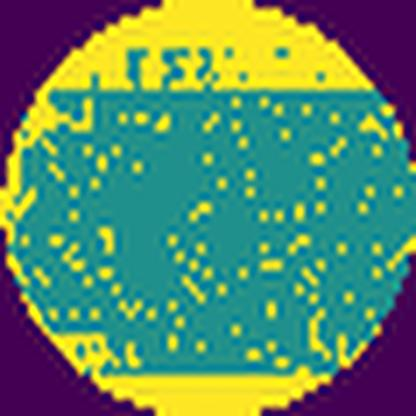Edge-Loc: (29, 0, 378, 95), (87, 365, 339, 416)
